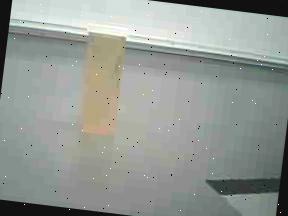Bottle A: (70, 15, 142, 146)
